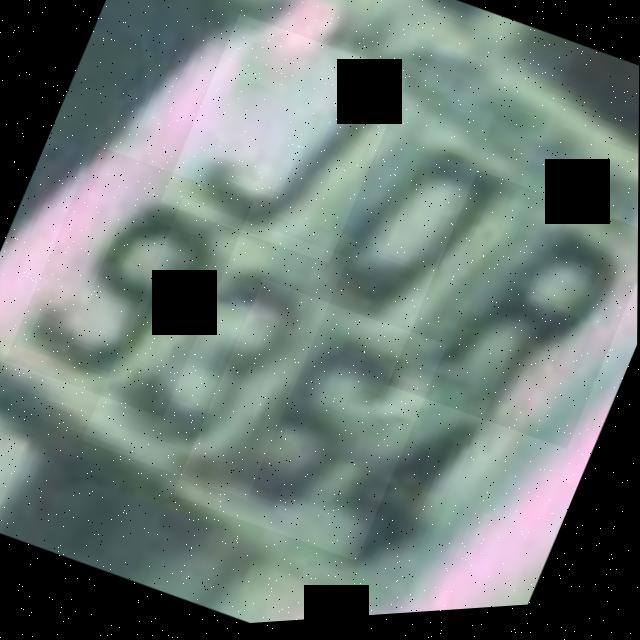3: (81, 192, 349, 512)
4: (275, 345, 520, 625)
9: (173, 273, 447, 575), (5, 138, 254, 428)
J: (159, 8, 409, 277)
O: (290, 74, 551, 370)
R: (387, 167, 639, 466)
